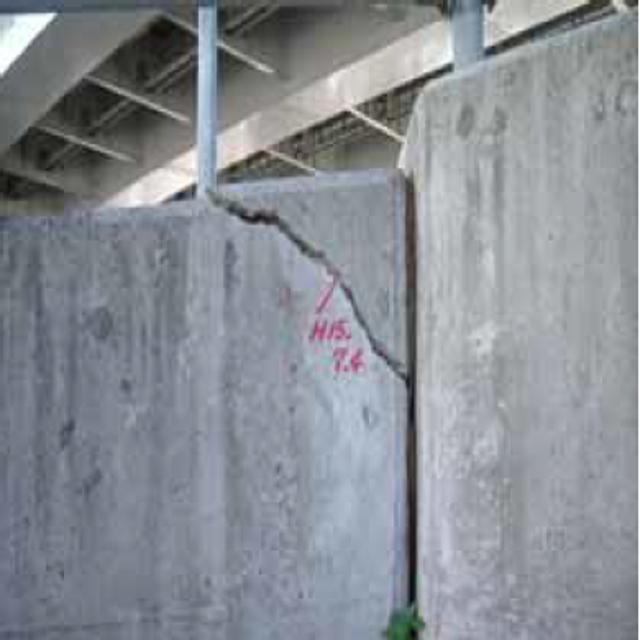crack: (204, 180, 417, 413)
